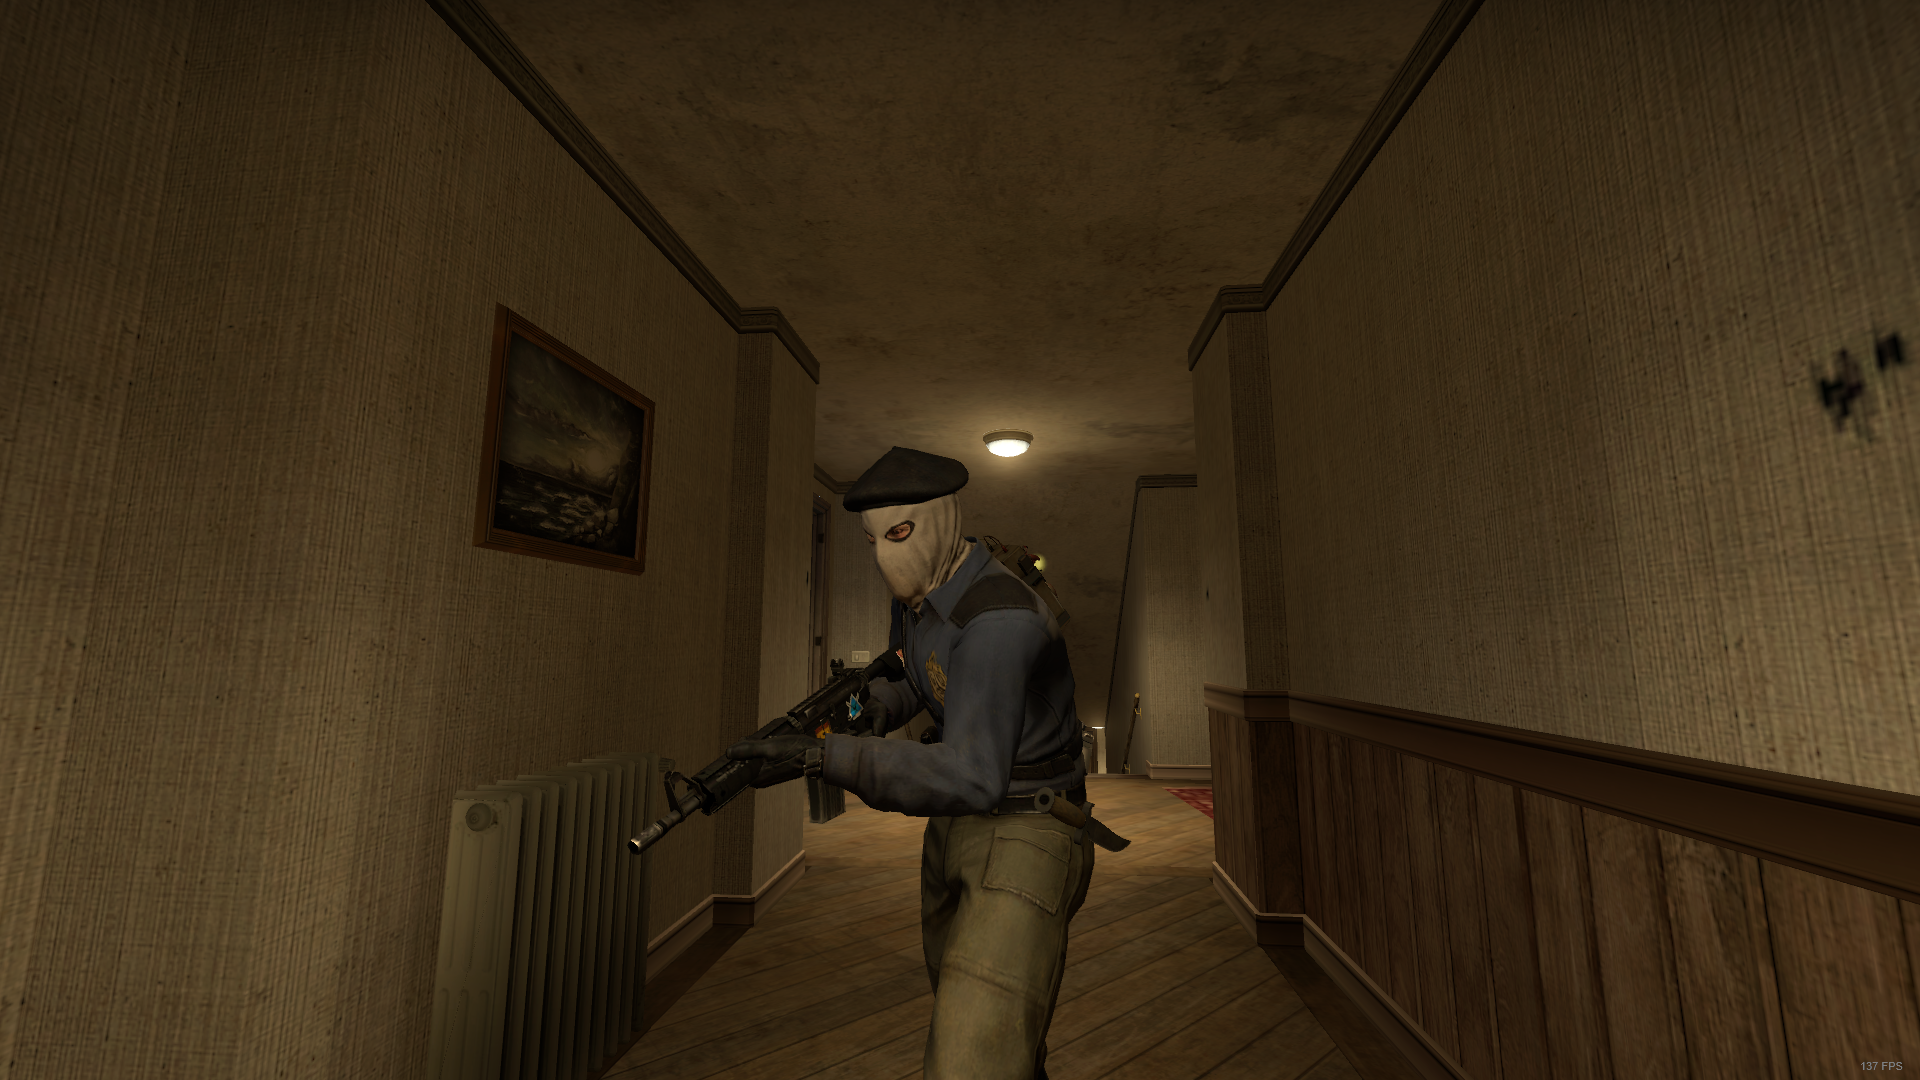t: (796, 436, 1153, 1080)
